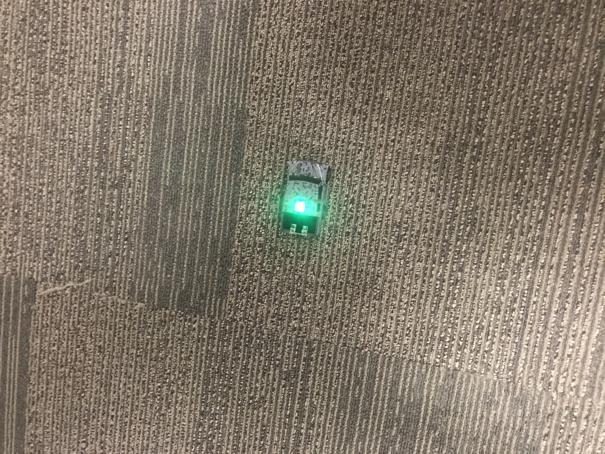MXT: (277, 159, 332, 239)
